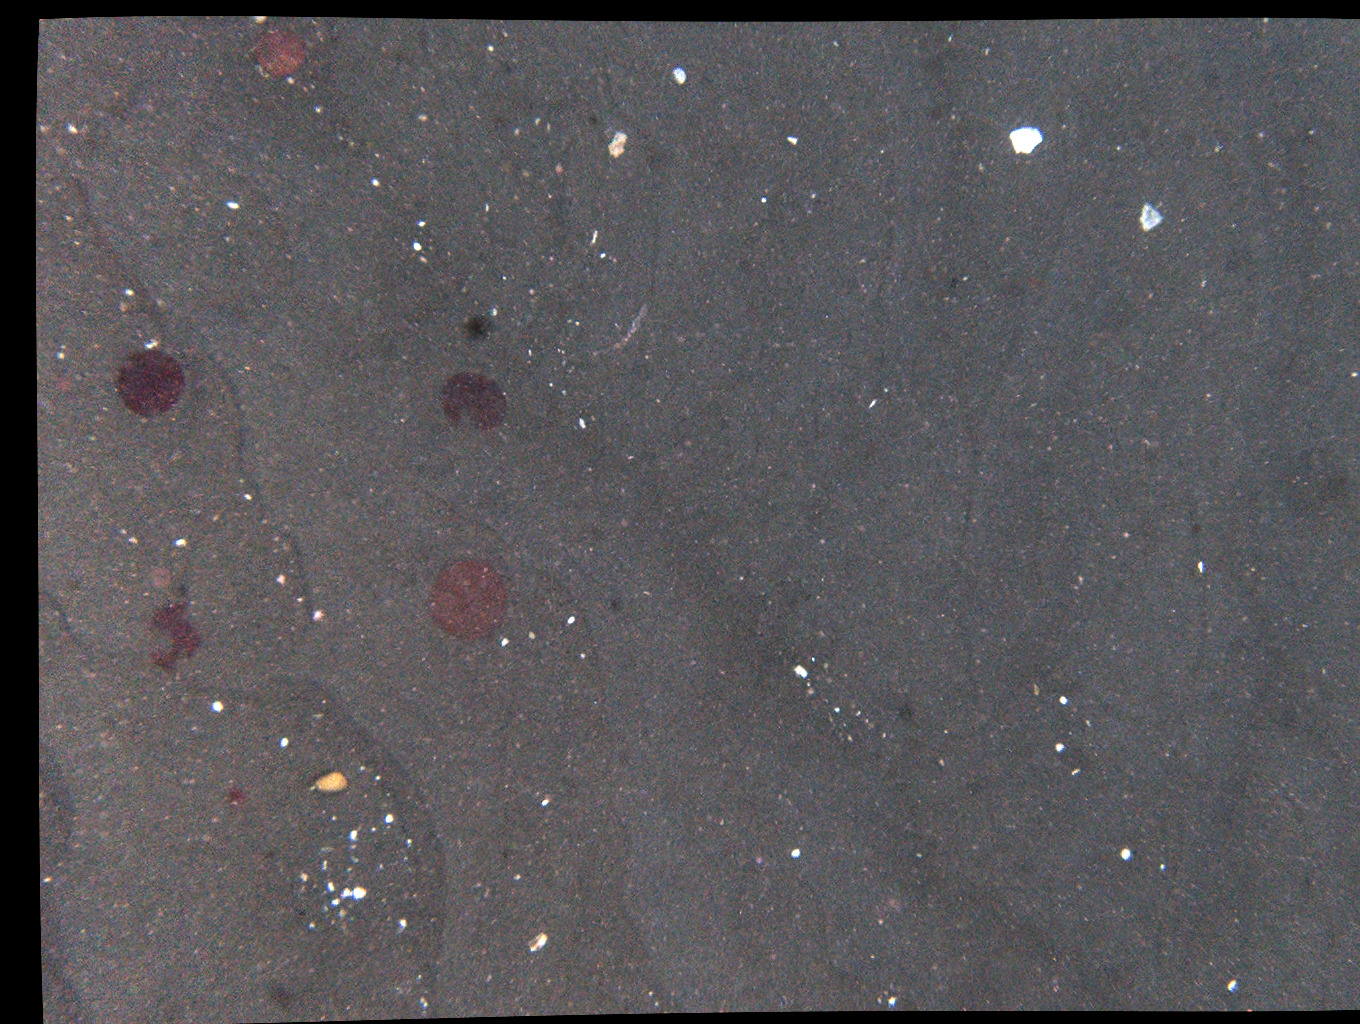Small shell hash: (133, 49, 151, 62)
Substrate A: (92, 45, 110, 60)
sand dollar: (424, 557, 503, 642), (116, 344, 187, 419), (142, 599, 213, 674), (436, 373, 507, 447), (250, 23, 313, 82), (211, 781, 249, 821), (142, 557, 180, 597)
